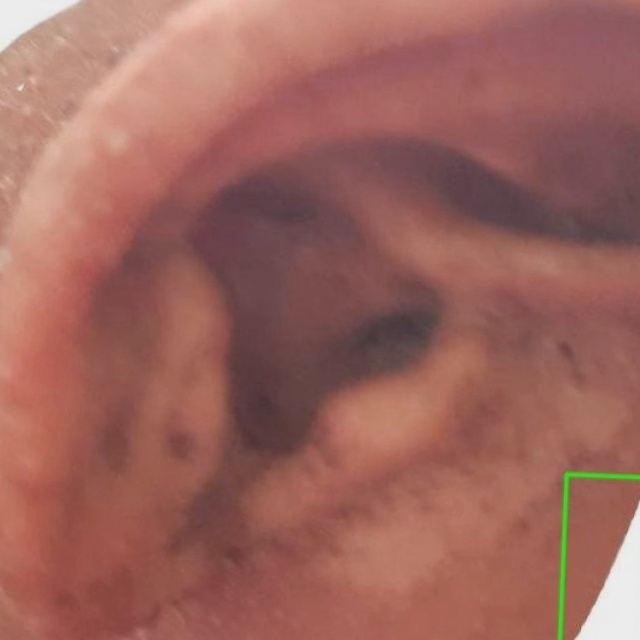Contact Dermatitis: (559, 474, 639, 639)
